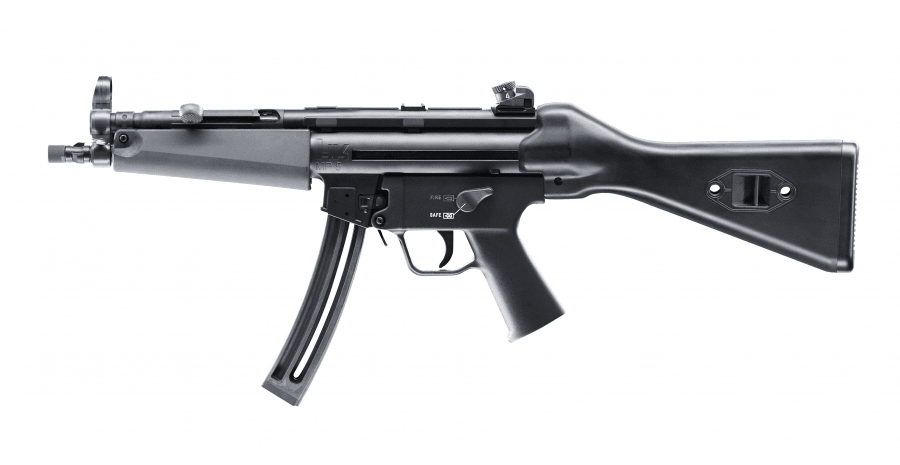Arma Real: (42, 70, 864, 411)
